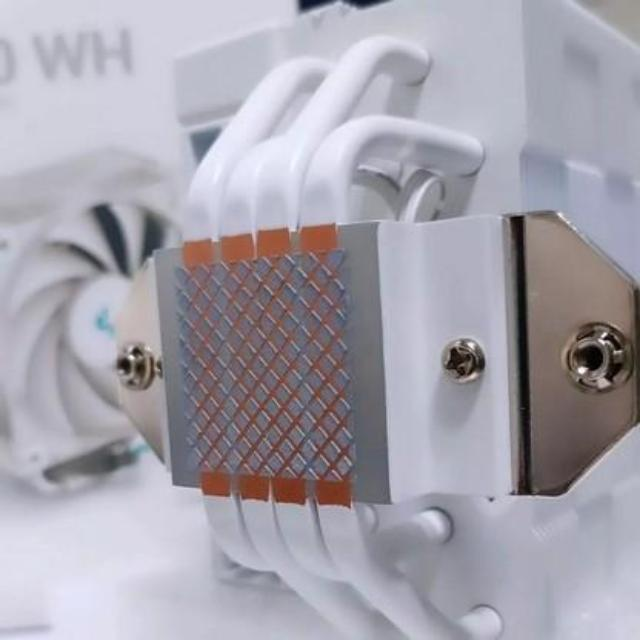CPU_Fan: (182, 9, 640, 620)
